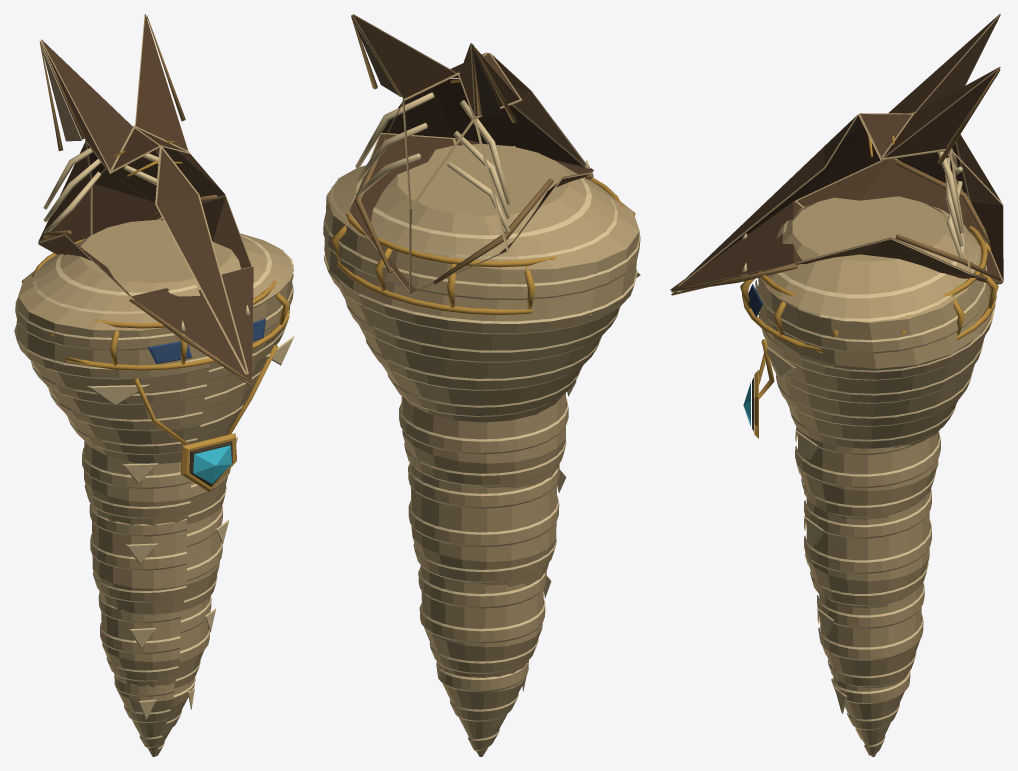
The model's file is anubis.glb.
3 renders of one model, left to right at view 1: azimuth 30°, elevation 25°; view 2: azimuth 150°, elevation 25°; view 3: azimuth 270°, elevation 25°, orthographic. The views are drawn at different scales.
Parts seen in each view (by area): view 1: Anubis.0.13.beveled jackal mask, Anubis.0.03.broad wrapped shoulders, Anubis.0.06.lower articulated waist, Anubis.0.15.hinged lower jackal jaw, Anubis.0.03.overlapping linen wrap.005, Anubis.0.05.upper articulated waist, Anubis.0.08.tapered hovering tail, Anubis.0.03.overlapping linen wrap.003, Anubis.0.03.overlapping linen wrap.004, Anubis.0.03.overlapping linen wrap.002, Anubis.0.03.overlapping linen wrap.001, Anubis.0.06.overlapping linen wrap.001 (+22 smaller); view 2: Anubis.0.03.broad wrapped shoulders, Anubis.0.13.beveled jackal mask, Anubis.0.06.lower articulated waist, Anubis.0.03.overlapping linen wrap.005, Anubis.0.05.upper articulated waist, Anubis.0.08.tapered hovering tail, Anubis.0.03.overlapping linen wrap.004, Anubis.0.03.overlapping linen wrap.003, Anubis.0.03.overlapping linen wrap.002, Anubis.0.05.overlapping linen wrap.001, Anubis.0.03.overlapping linen wrap.001, Anubis.0.06.overlapping linen wrap.002 (+21 smaller); view 3: Anubis.0.03.broad wrapped shoulders, Anubis.0.13.beveled jackal mask, Anubis.0.06.lower articulated waist, Anubis.0.03.overlapping linen wrap.005, Anubis.0.05.upper articulated waist, Anubis.0.08.tapered hovering tail, Anubis.0.15.hinged lower jackal jaw, Anubis.0.03.overlapping linen wrap.004, Anubis.0.03.overlapping linen wrap.003, Anubis.0.05.overlapping linen wrap.001, Anubis.0.03.overlapping linen wrap.002, Anubis.0.03.overlapping linen wrap.001 (+15 smaller).
Part boxes in pixels (x1,y1,x2,y2): Anubis.0.13.beveled jackal mask: (38, 14, 251, 374); Anubis.0.03.broad wrapped shoulders: (16, 220, 293, 463); Anubis.0.06.lower articulated waist: (92, 507, 220, 614); Anubis.0.15.hinged lower jackal jaw: (131, 267, 253, 381); Anubis.0.03.overlapping linen wrap.005: (32, 233, 294, 314); Anubis.0.05.upper articulated waist: (84, 441, 227, 525); Anubis.0.08.tapered hovering tail: (100, 596, 209, 687); Anubis.0.03.overlapping linen wrap.003: (14, 319, 288, 381); Anubis.0.03.overlapping linen wrap.004: (15, 282, 293, 353); Anubis.0.03.overlapping linen wrap.002: (31, 362, 261, 409); Anubis.0.03.overlapping linen wrap.001: (48, 389, 243, 435); Anubis.0.06.overlapping linen wrap.001: (90, 533, 222, 581); Anubis.0.03.broad wrapped shoulders: (324, 144, 639, 422); Anubis.0.13.beveled jackal mask: (349, 14, 591, 293); Anubis.0.06.lower articulated waist: (410, 463, 556, 586); Anubis.0.03.overlapping linen wrap.005: (330, 158, 617, 258); Anubis.0.05.upper articulated waist: (401, 393, 565, 488); Anubis.0.08.tapered hovering tail: (420, 565, 543, 677); Anubis.0.03.overlapping linen wrap.004: (323, 214, 640, 300); Anubis.0.03.overlapping linen wrap.003: (324, 254, 637, 334); Anubis.0.03.overlapping linen wrap.002: (345, 301, 620, 362); Anubis.0.05.overlapping linen wrap.001: (399, 398, 568, 454); Anubis.0.03.overlapping linen wrap.001: (365, 337, 601, 390); Anubis.0.06.overlapping linen wrap.002: (408, 463, 559, 508); Anubis.0.03.broad wrapped shoulders: (758, 196, 992, 447); Anubis.0.13.beveled jackal mask: (678, 14, 1003, 287); Anubis.0.06.lower articulated waist: (806, 491, 929, 608); Anubis.0.03.overlapping linen wrap.005: (760, 205, 977, 321); Anubis.0.05.upper articulated waist: (797, 432, 938, 519); Anubis.0.08.tapered hovering tail: (819, 583, 922, 688); Anubis.0.15.hinged lower jackal jaw: (670, 201, 802, 289); Anubis.0.03.overlapping linen wrap.004: (755, 265, 989, 353); Anubis.0.03.overlapping linen wrap.003: (758, 285, 995, 380); Anubis.0.05.overlapping linen wrap.001: (795, 427, 940, 487); Anubis.0.03.overlapping linen wrap.002: (765, 338, 983, 403); Anubis.0.03.overlapping linen wrap.001: (773, 367, 973, 426).
Size of the model in its own units: 23.73 by 60.79 by 25.73.
